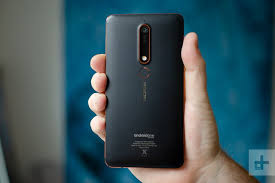nokia: (101, 12, 190, 169)
